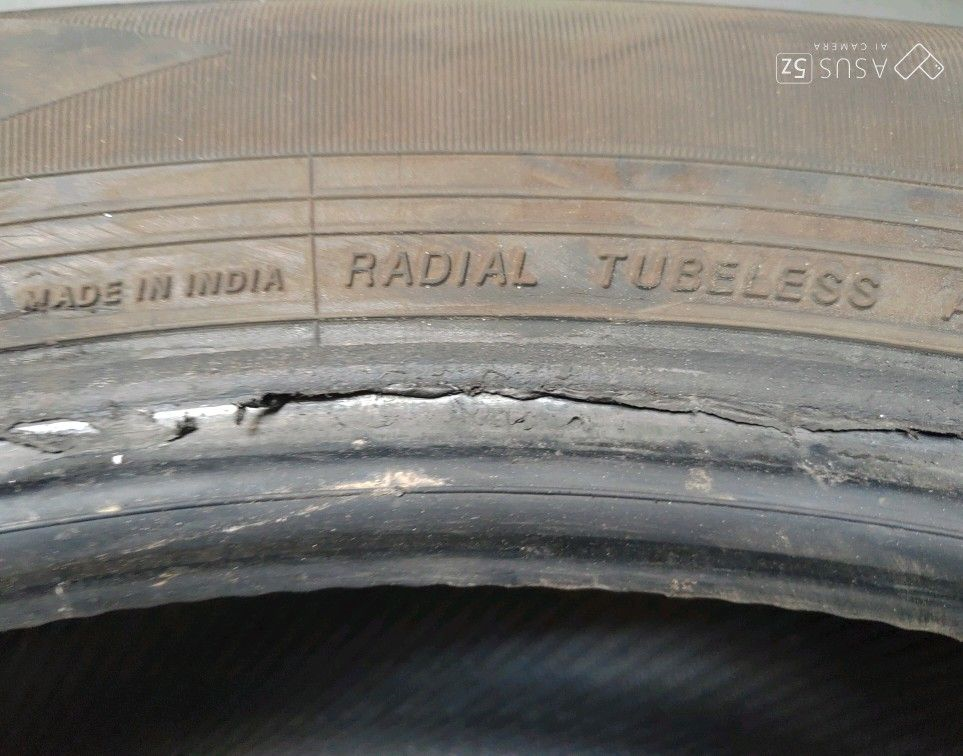cut: (222, 381, 962, 444), (163, 415, 203, 443)
